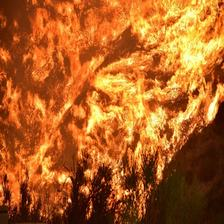fire: (2, 2, 212, 204)
